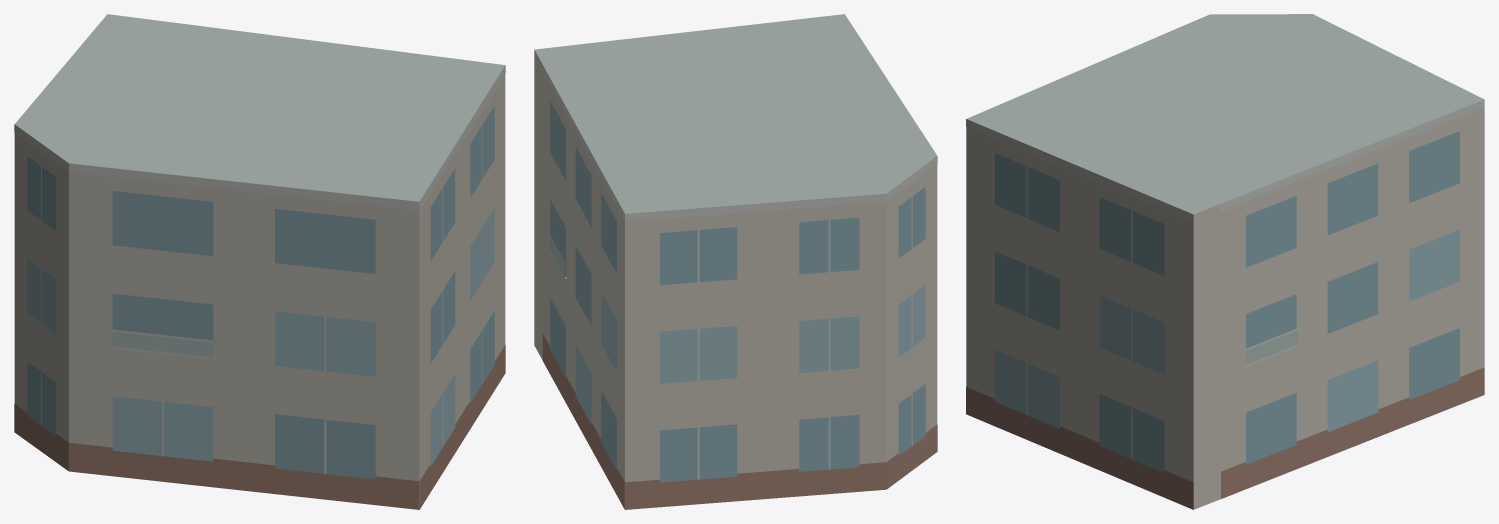
File: survey-upis-32489051.glb
3 views of the same model, side by side, from view 1: azimuth 30°, elevation 25°; view 2: azimuth 150°, elevation 25°; view 3: azimuth 270°, elevation 25° (orthographic). The views are drawn at different scales.
Parts seen in each view (by area): view 1: survey-upis-32489051.tmp; view 2: survey-upis-32489051.tmp; view 3: survey-upis-32489051.tmp.
Boxes of the visible parts, x1,y1,x2,y2 form: survey-upis-32489051.tmp: (14,14,505,509); survey-upis-32489051.tmp: (534,14,937,509); survey-upis-32489051.tmp: (966,14,1484,509).
Size of the model in its own units: 12.97 by 8.9 by 14.17.
